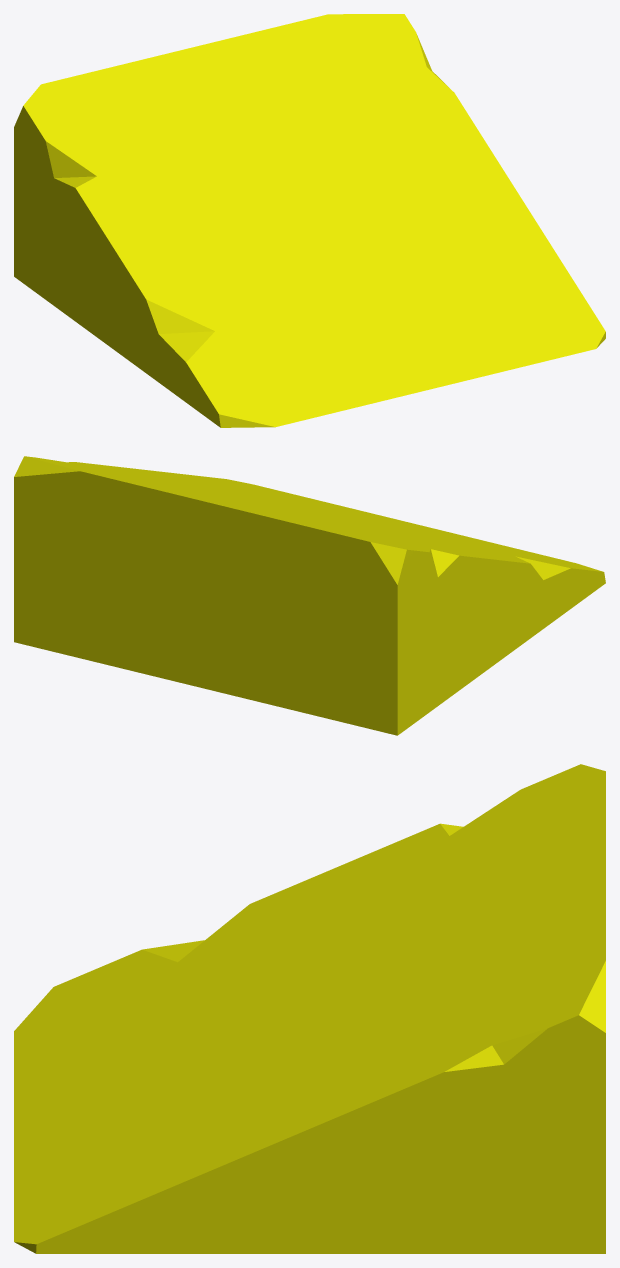
The model's file is SM_PolygonPrototype_Buildings_Ramp_25_1x1_01P.glb.
3 views of the same model, one above another, from view 1: azimuth 30°, elevation 25°; view 2: azimuth 150°, elevation 25°; view 3: azimuth 270°, elevation 25° (orthographic). The views are drawn at different scales.
Visible parts, largest first — view 1: SM_PolygonPrototype_Buildings_Ramp_25_1x1_01P; view 2: SM_PolygonPrototype_Buildings_Ramp_25_1x1_01P; view 3: SM_PolygonPrototype_Buildings_Ramp_25_1x1_01P.
Part boxes in pixels (bbox=[...]): SM_PolygonPrototype_Buildings_Ramp_25_1x1_01P: bbox=[14, 14, 605, 427]; SM_PolygonPrototype_Buildings_Ramp_25_1x1_01P: bbox=[14, 456, 605, 735]; SM_PolygonPrototype_Buildings_Ramp_25_1x1_01P: bbox=[14, 764, 605, 1253].
Size of the model in its own units: 1 by 0.4663 by 1.
Materials: 1 (1 with a texture image).
